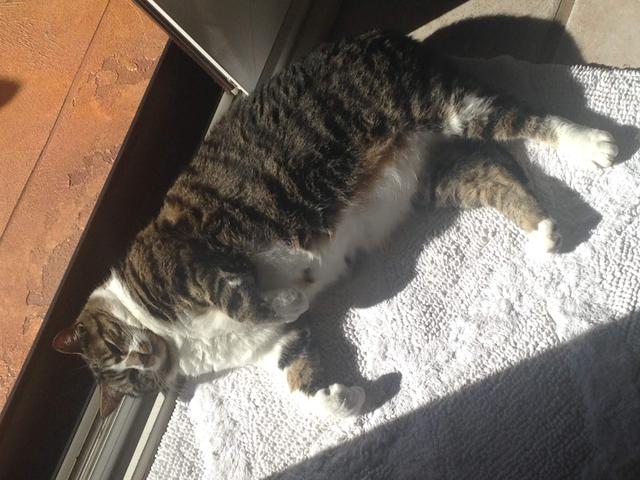playdoh: (56, 31, 617, 421)
